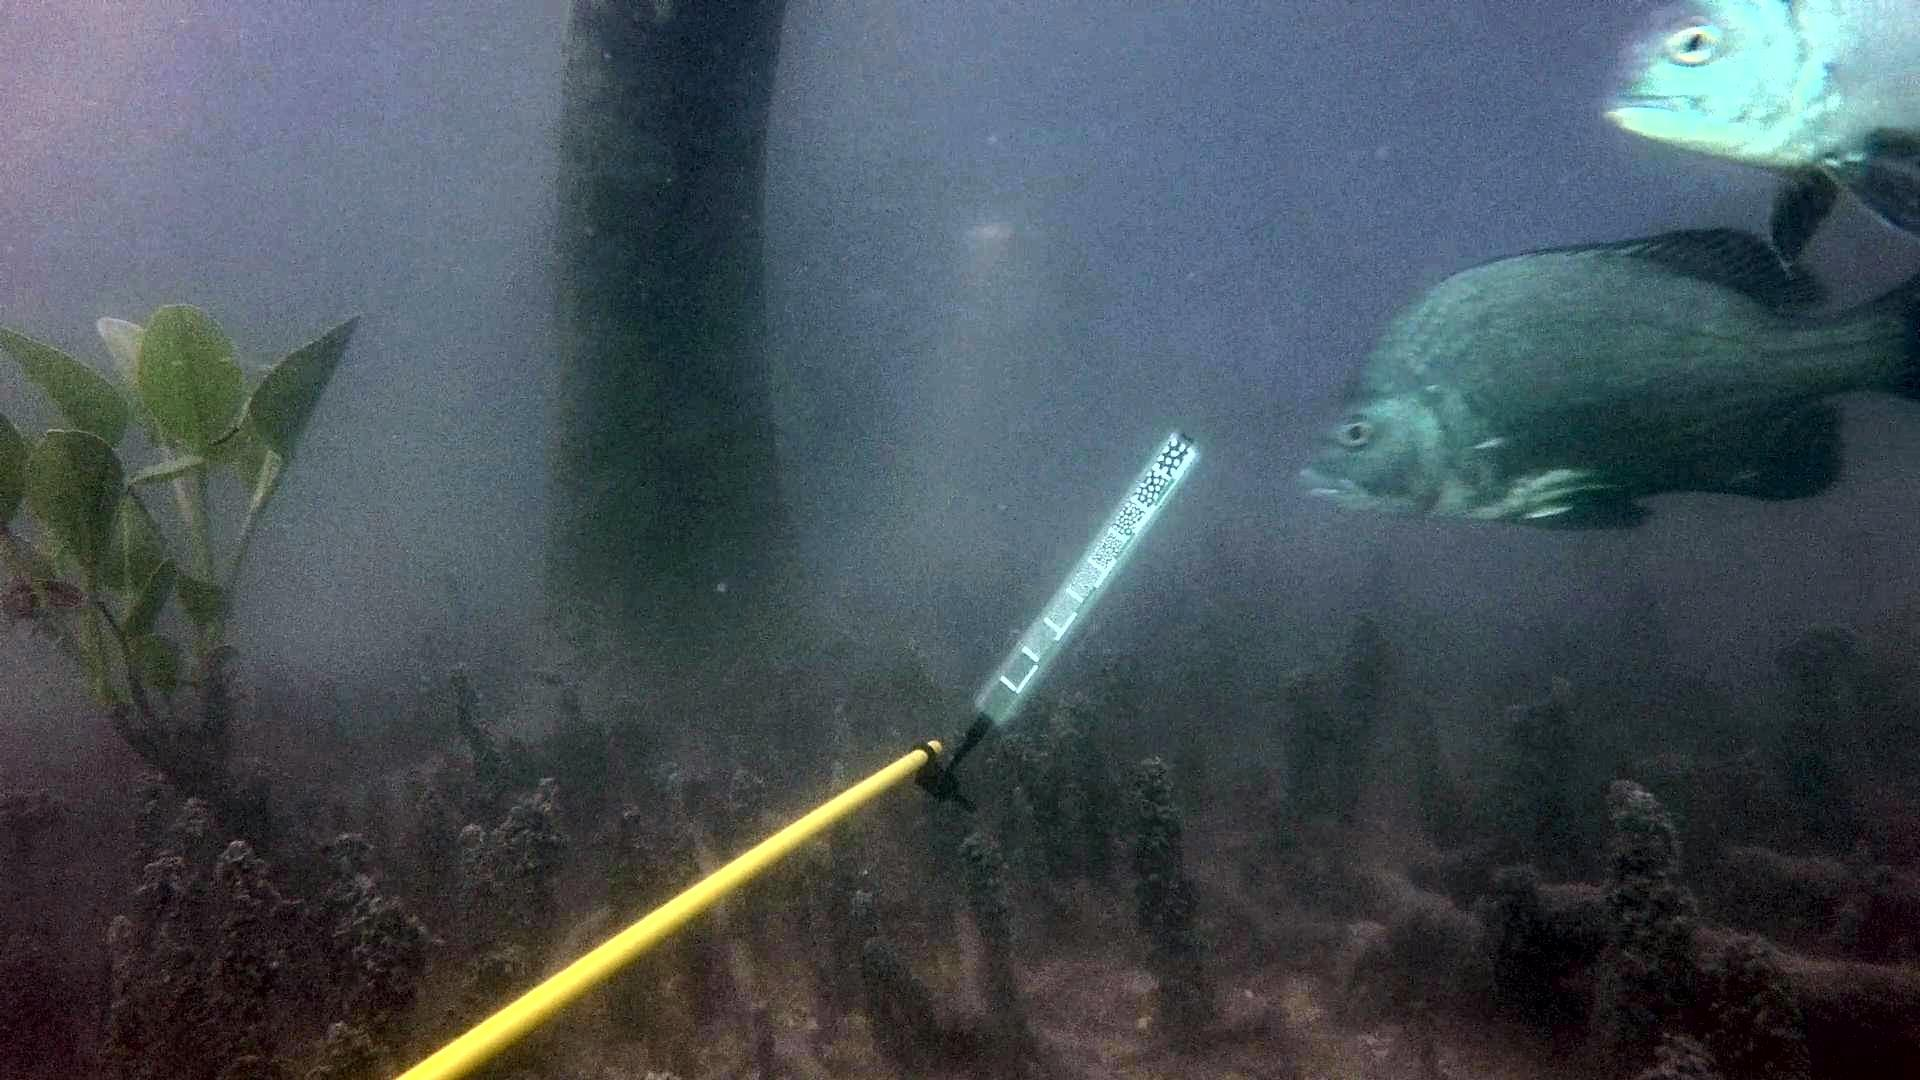acanthopagrus palmaris: (1305, 223, 1920, 549), (1588, 0, 1920, 286)
